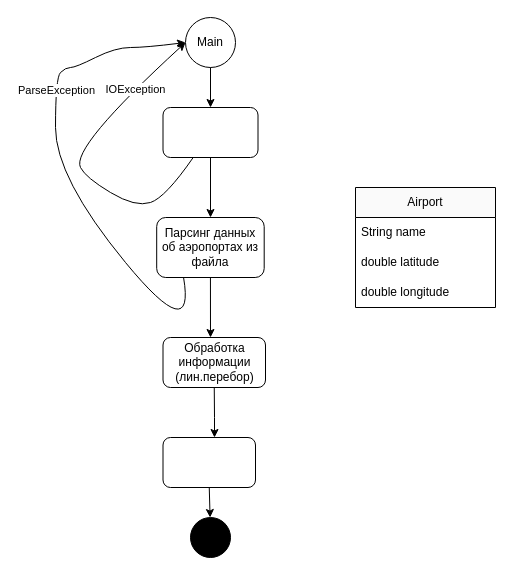
Image size: 513x575. Some labels were removed from this diagram. Here are the shapes that lost their labels. From the top down, the box of each, then its label:
(162, 106, 258, 158): Ввод данных
(162, 436, 256, 488): Вывод результата
